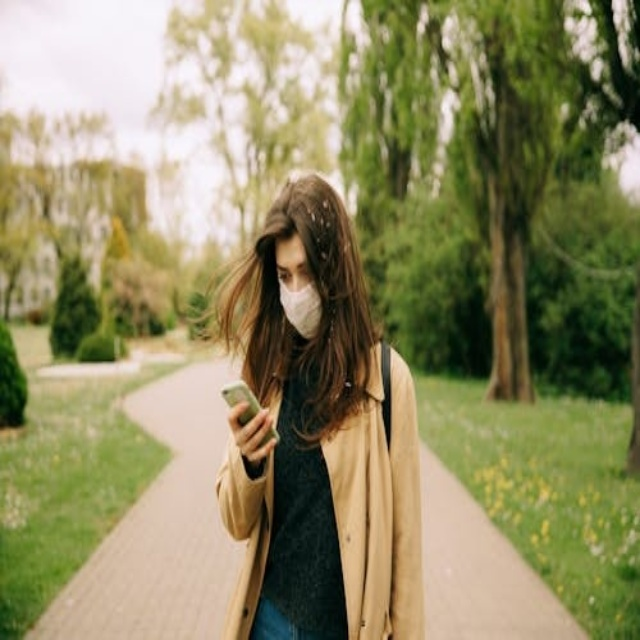Mascara: (278, 276, 324, 340)
Sin_gafas: (274, 246, 310, 290)
Sin_guantes: (227, 399, 278, 465)
